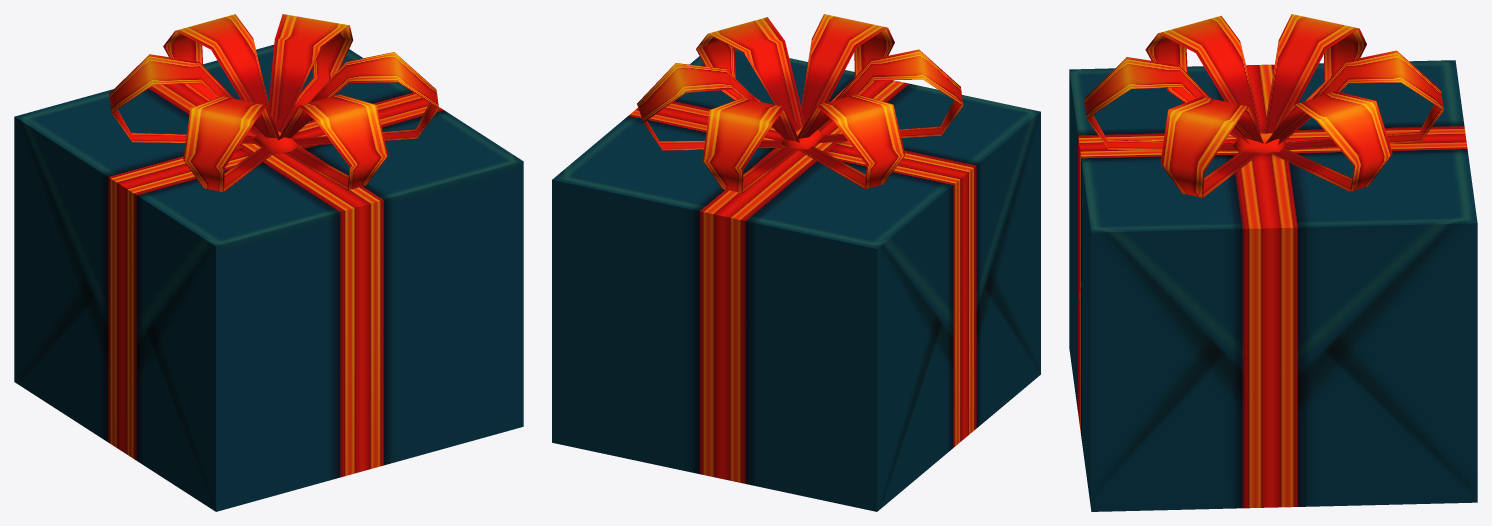
The model's file is Gift5.FBX.
3 renders of one model, left to right at view 1: azimuth 30°, elevation 25°; view 2: azimuth 150°, elevation 25°; view 3: azimuth 270°, elevation 25°, orthographic. The views are drawn at different scales.
Visible parts, largest first — view 1: Gift5; view 2: Gift5; view 3: Gift5.
Boxes of the visible parts, x1,y1,x2,y2 form: Gift5: (14, 14, 523, 511); Gift5: (552, 14, 1040, 511); Gift5: (1069, 14, 1477, 511).
Bounding box in the file's own units: 15.33 × 14.8 × 15.33.
1 material, 1 textured.
